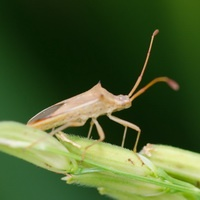insect: (27, 29, 178, 159)
